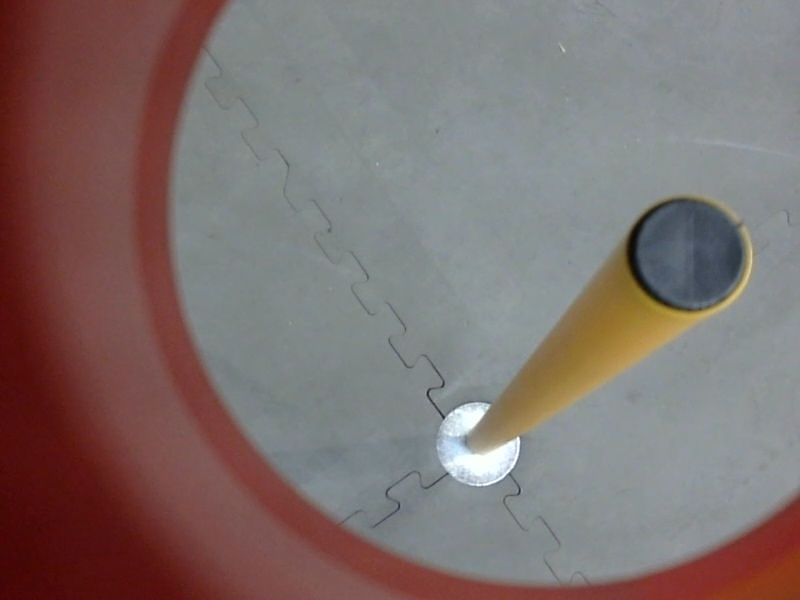tip: (615, 181, 761, 323)
